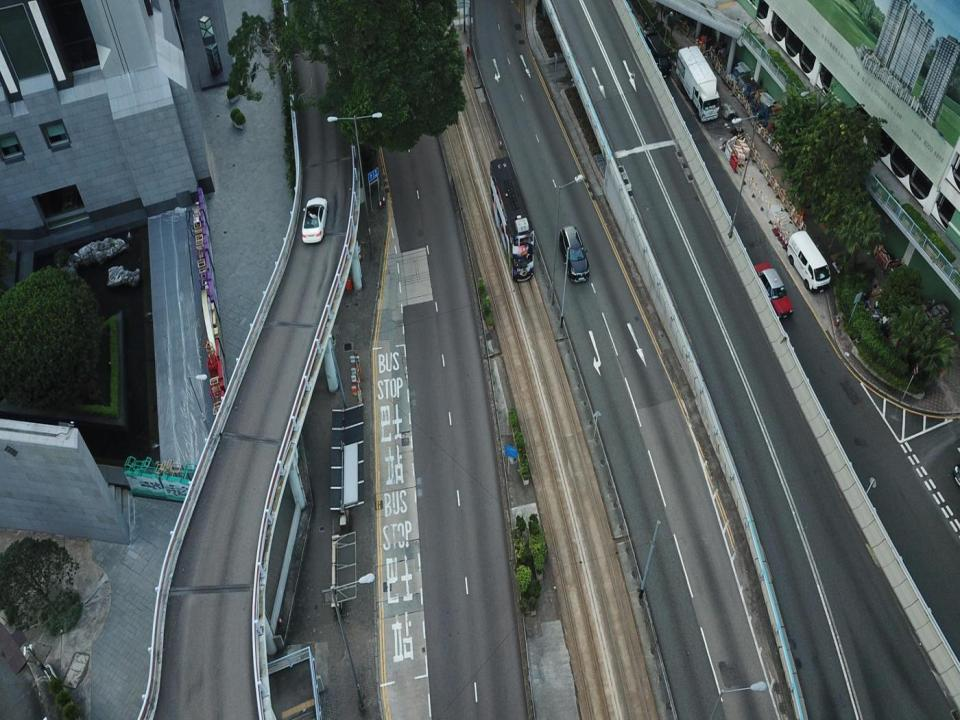bus: (490, 156, 535, 280)
car: (752, 261, 792, 319), (560, 224, 590, 286), (301, 197, 326, 243)
truck: (676, 47, 719, 121)
van: (786, 229, 830, 294), (645, 33, 672, 78)
